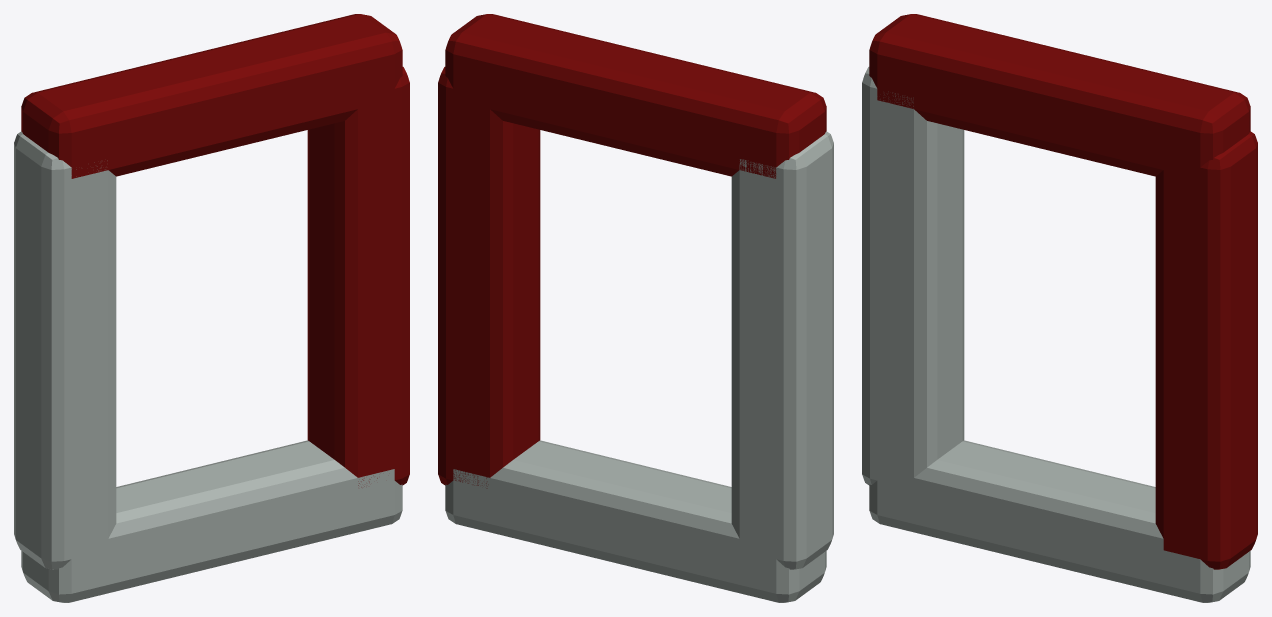
Rendered from Lifebuoy.fbx.
The picture shows the model from 3 angles, left to right: view 1: azimuth 30°, elevation 25°; view 2: azimuth 150°, elevation 25°; view 3: azimuth 330°, elevation 25°; orthographic projection.
Parts seen in each view (by area): view 1: Lifebuoy; view 2: Lifebuoy; view 3: Lifebuoy.
Boxes of the visible parts, x1,y1,x2,y2 form: Lifebuoy: (14,14,409,602); Lifebuoy: (438,14,833,602); Lifebuoy: (862,14,1257,602).
Size of the model in its own units: 50 by 10 by 64.
